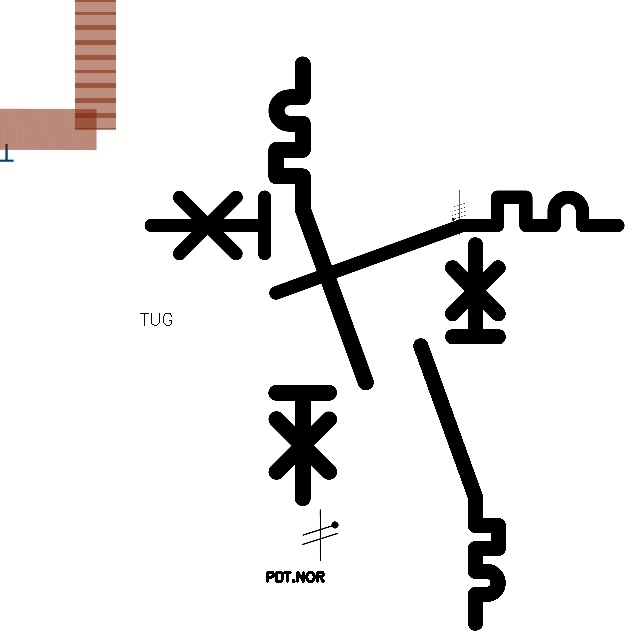interruptor_termomagnetico: (139, 185, 630, 305), (265, 53, 376, 509), (411, 235, 508, 633)
